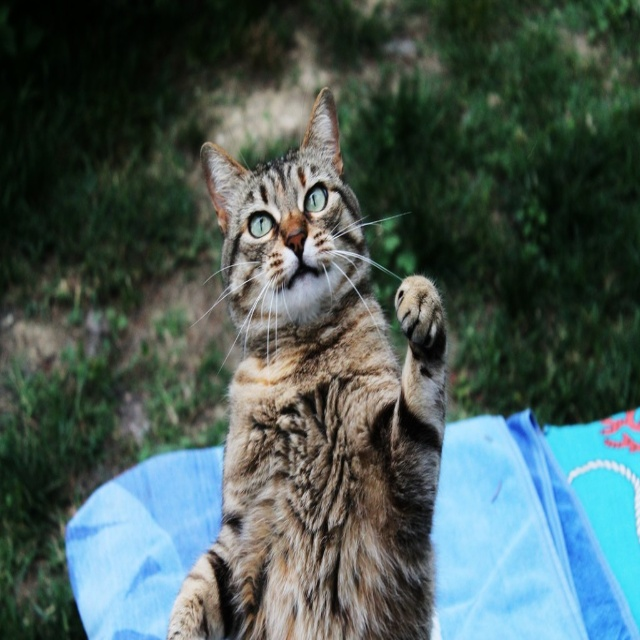Lynx: (164, 83, 452, 639)
